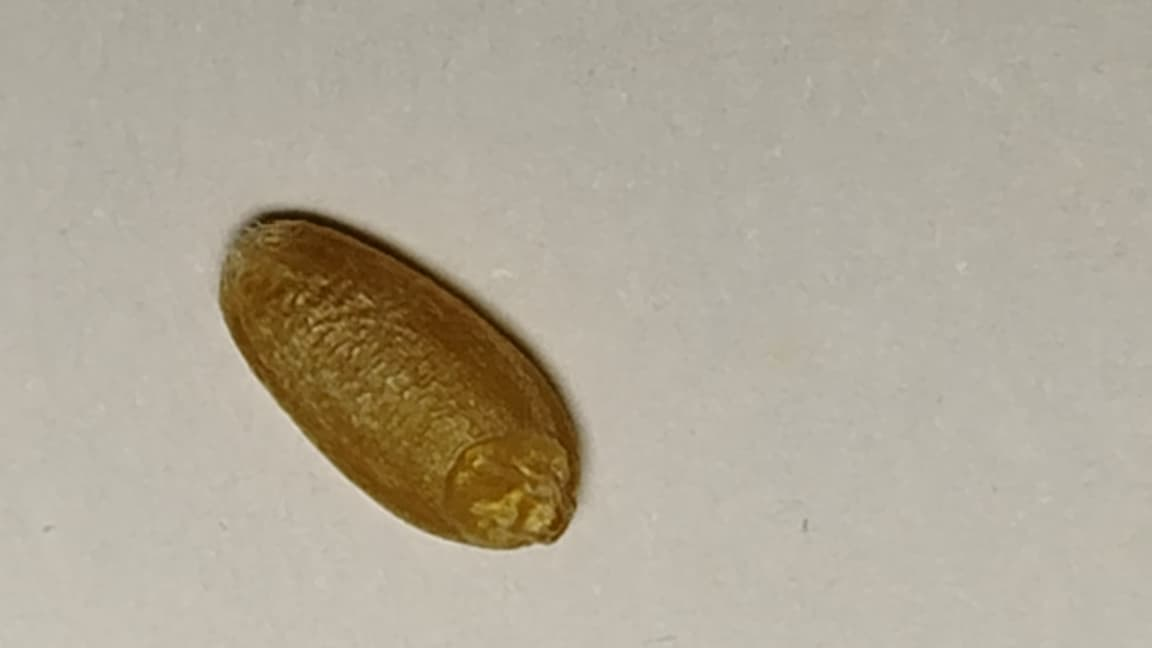healthy: (219, 218, 578, 548)
